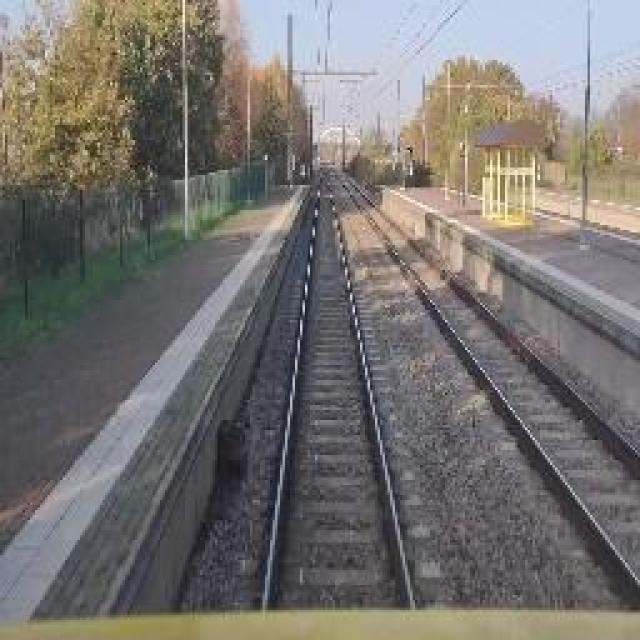rail: (320, 166, 640, 623), (234, 170, 452, 616)
